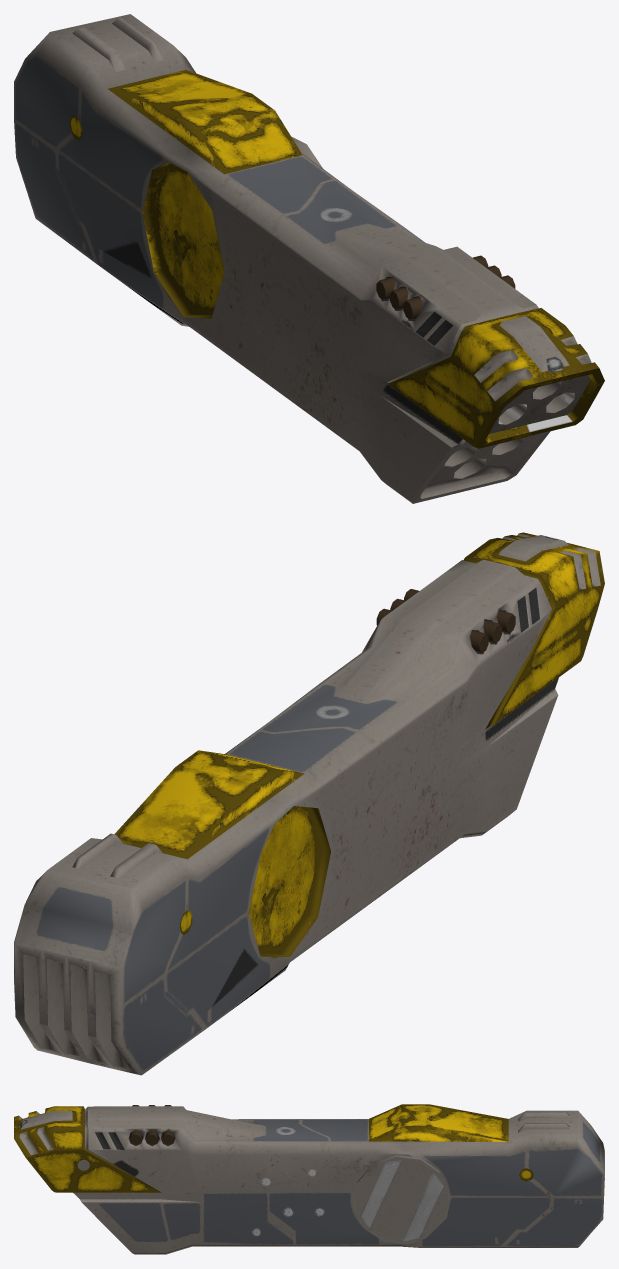
Rendered from Rocket_Launcher_L_cannon.fbx.
3 views of the same model, one above another, from view 1: azimuth 30°, elevation 25°; view 2: azimuth 150°, elevation 25°; view 3: azimuth 270°, elevation 25° (orthographic). The views are drawn at different scales.
Parts seen in each view (by area): view 1: Rocket_Launcher_L_cannon; view 2: Rocket_Launcher_L_cannon; view 3: Rocket_Launcher_L_cannon.
Part boxes in pixels (bbox=[...]): Rocket_Launcher_L_cannon: bbox=[14, 14, 604, 503]; Rocket_Launcher_L_cannon: bbox=[14, 532, 604, 1075]; Rocket_Launcher_L_cannon: bbox=[14, 1104, 604, 1254].
Size of the model in its own units: 86.63 by 144 by 608.
